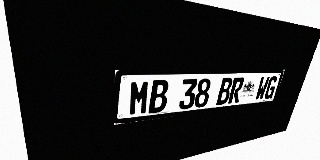3: (178, 79, 198, 110)
8: (193, 78, 212, 108)
B: (148, 80, 169, 114), (216, 78, 234, 105)
G: (263, 76, 279, 99)
M: (128, 80, 150, 116)
R: (228, 77, 245, 104)
W: (254, 76, 270, 101)
